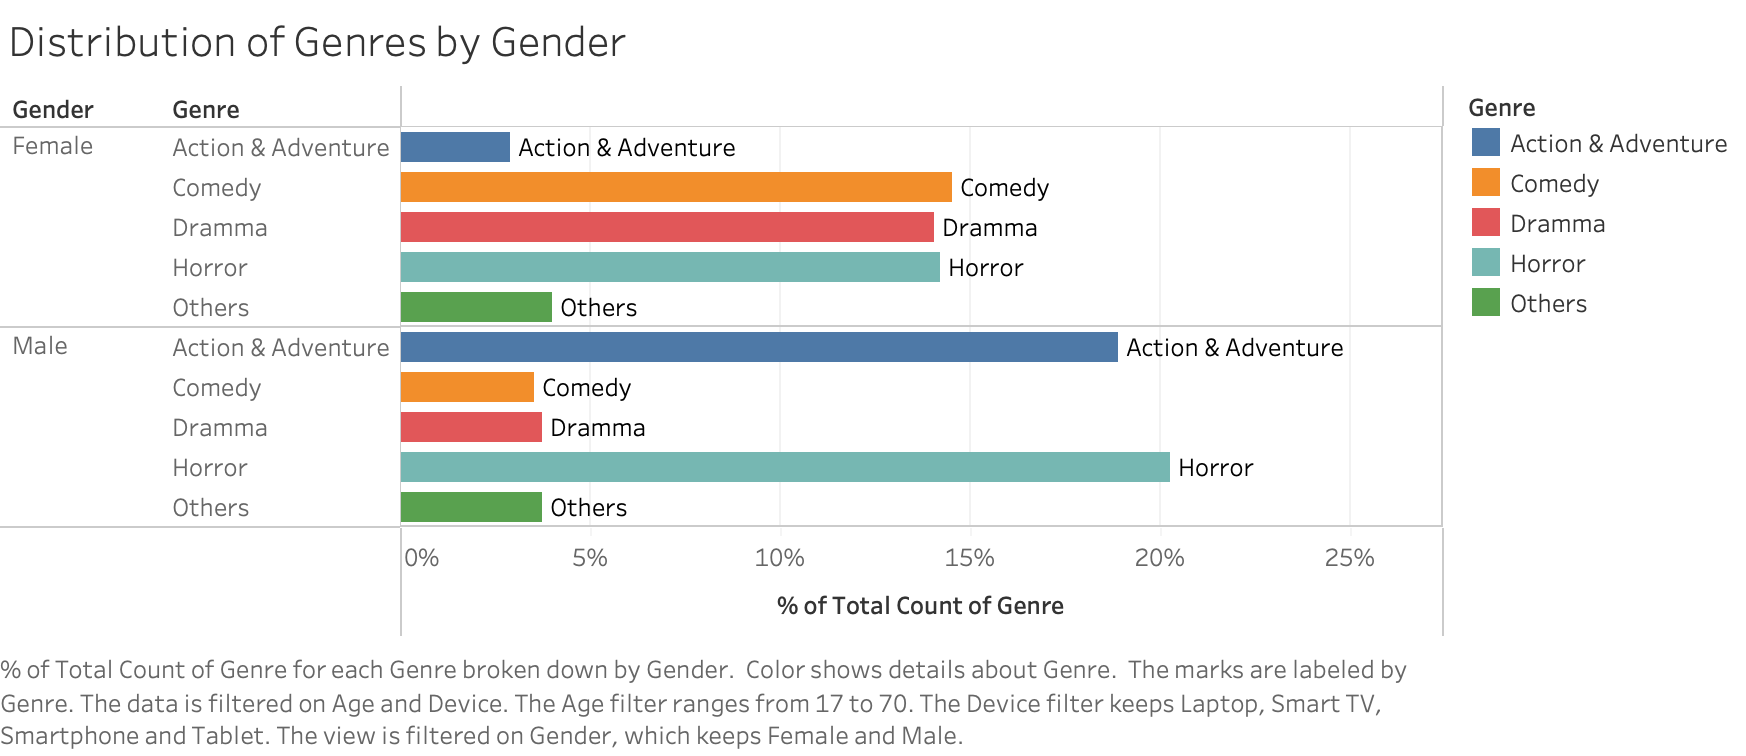

The dashboard page shown, as its layout file describes it:
{"tool":"powerbi","page":{"name":"Page 2","canvas":[1280,720],"ordinal":9},"visuals":[{"type":"clusteredBarChart","title":"Genre Popularity by Gender","fields":{"Category":["cleaned_netflix_data.Gender"],"Y":["CountNonNull(cleaned_netflix_data.Genre)"]},"box":[10.6,0,820.5,280.6],"z":0}]}

Visuals, with their boxes on the page's 1280x720 design canvas (x1, y1, x2, y2). These are canvas units, not pixel positions in the 1746x756 screenshot, which may show the page scaled, cropped or inside an application window:
"Genre Popularity by Gender" clusteredBarChart: x1=11, y1=0, x2=831, y2=281
